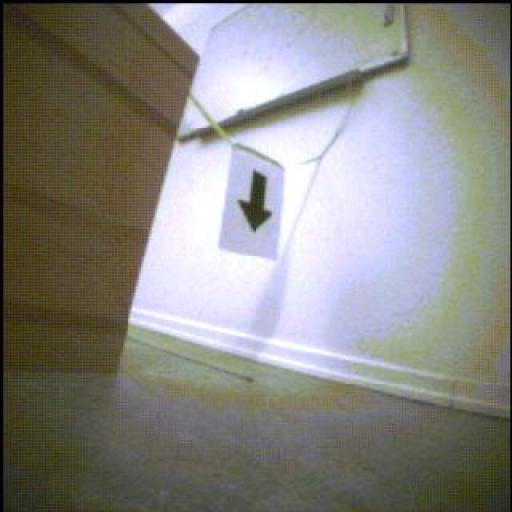Arrow: (239, 172, 273, 233)
